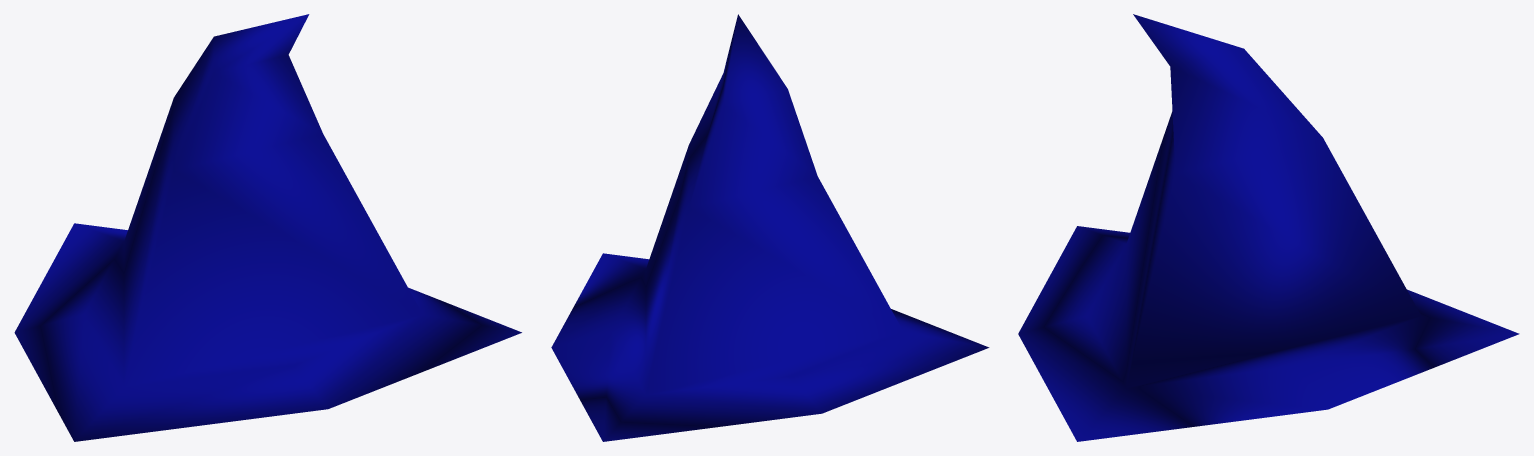
File: Wizard Hat.fbx
3 renders of one model, left to right at view 1: azimuth 30°, elevation 25°; view 2: azimuth 150°, elevation 25°; view 3: azimuth 270°, elevation 25°, orthographic. The views are drawn at different scales.
Parts seen in each view (by area): view 1: Cone; view 2: Cone; view 3: Cone.
Boxes of the visible parts, x1,y1,x2,y2 form: Cone: (14, 14, 521, 441); Cone: (551, 14, 989, 441); Cone: (1018, 14, 1519, 441).
Size of the model in its own units: 260 by 190 by 255.
